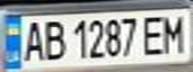1: (66, 16, 90, 60)
2: (84, 16, 106, 60)
7: (118, 14, 142, 57)
8: (103, 16, 124, 58)
A: (18, 18, 48, 63)
B: (39, 17, 69, 61)
E: (139, 12, 169, 56)
M: (160, 11, 190, 54)
